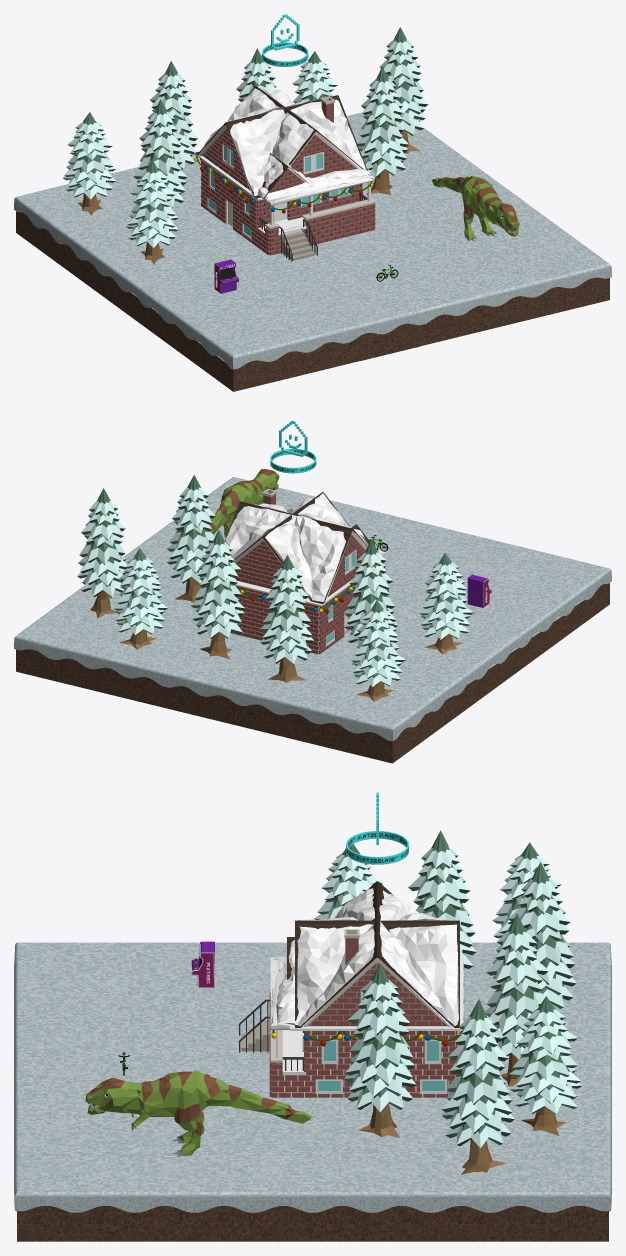
3 views of the same model, one above another, from view 1: azimuth 30°, elevation 25°; view 2: azimuth 150°, elevation 25°; view 3: azimuth 270°, elevation 25° (orthographic). The views are drawn at different scales.
Visible parts, largest first — view 1: Cube.003, Cube.1419, ANIMAL_TREX, TYPE_PREMIUM, OBJRANDOM_ARCADE; view 2: Cube.003, Cube.1419, ANIMAL_TREX, TYPE_PREMIUM, OBJRANDOM_ARCADE; view 3: Cube.003, Cube.1419, ANIMAL_TREX, TYPE_PREMIUM, OBJRANDOM_ARCADE.
Part boxes in pixels (<box>): Cube.003: <box>14,27,611,391</box>; Cube.1419: <box>194,86,376,261</box>; ANIMAL_TREX: <box>431,176,519,241</box>; TYPE_PREMIUM: <box>262,14,308,66</box>; OBJRANDOM_ARCADE: <box>214,259,238,293</box>; Cube.003: <box>14,475,611,763</box>; Cube.1419: <box>225,488,388,654</box>; ANIMAL_TREX: <box>210,469,279,536</box>; TYPE_PREMIUM: <box>270,420,316,473</box>; OBJRANDOM_ARCADE: <box>467,574,491,607</box>; Cube.003: <box>14,830,611,1241</box>; Cube.1419: <box>238,881,464,1097</box>; ANIMAL_TREX: <box>85,1071,311,1156</box>; TYPE_PREMIUM: <box>346,792,408,864</box>; OBJRANDOM_ARCADE: <box>191,941,214,988</box>.
Size of the model in its own units: 4040 by 2467 by 4040.
Materials: 50 (4 with a texture image).
